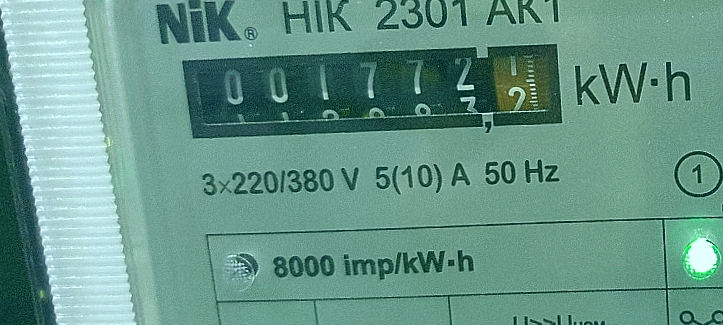0: (218, 65, 246, 106), (265, 63, 289, 103)
1: (314, 61, 331, 100), (505, 53, 519, 79)
2: (451, 55, 475, 92), (503, 83, 527, 112)
3: (457, 93, 479, 115)
7: (356, 59, 380, 100), (403, 57, 425, 95)
screen: (169, 32, 579, 149)
